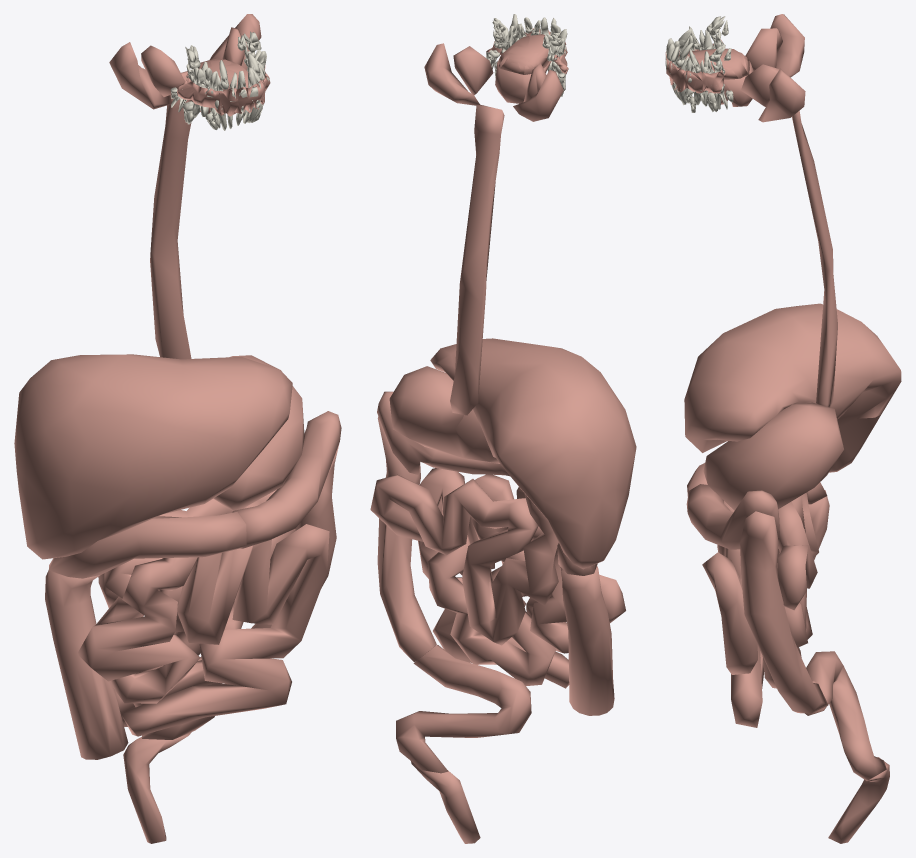
File: pediatric_child_10y_male.digestive.LOD3.glb
The picture shows the model from 3 angles, left to right: view 1: azimuth 30°, elevation 25°; view 2: azimuth 150°, elevation 25°; view 3: azimuth 270°, elevation 25°; orthographic projection. The views are drawn at different scales.
Visible parts, largest first — view 1: PEDIATRIC.CHILD_10Y.MALE.DIGESTIVE.LIVER, PEDIATRIC.CHILD_10Y.MALE.DIGESTIVE.SMALL_INTESTINE_WALL, PEDIATRIC.CHILD_10Y.MALE.DIGESTIVE.ASCENDING_COLON_WALL, PEDIATRIC.CHILD_10Y.MALE.DIGESTIVE.OESOPHAGUS_WALL, PEDIATRIC.CHILD_10Y.MALE.DIGESTIVE.TRANSVERSE_COLON_WALL.R, PEDIATRIC.CHILD_10Y.MALE.DIGESTIVE.TRANSVERSE_COLON_WALL.L, PEDIATRIC.CHILD_10Y.MALE.DIGESTIVE.STOMACH_WALL, PEDIATRIC.CHILD_10Y.MALE.DIGESTIVE.SALIVARY_GLANDS.R, PEDIATRIC.CHILD_10Y.MALE.DIGESTIVE.RECTUM_WALL, PEDIATRIC.CHILD_10Y.MALE.DIGESTIVE.PERMANENT_CEMENTUM, PEDIATRIC.CHILD_10Y.MALE.DIGESTIVE.ORAL_MUCOSA_LIP_AND_CHEEK, PEDIATRIC.CHILD_10Y.MALE.DIGESTIVE.DESCENDING_COLON_WALL (+3 smaller); view 2: PEDIATRIC.CHILD_10Y.MALE.DIGESTIVE.SMALL_INTESTINE_WALL, PEDIATRIC.CHILD_10Y.MALE.DIGESTIVE.LIVER, PEDIATRIC.CHILD_10Y.MALE.DIGESTIVE.OESOPHAGUS_WALL, PEDIATRIC.CHILD_10Y.MALE.DIGESTIVE.SIGMOID_COLON_WALL, PEDIATRIC.CHILD_10Y.MALE.DIGESTIVE.ASCENDING_COLON_WALL, PEDIATRIC.CHILD_10Y.MALE.DIGESTIVE.STOMACH_WALL, PEDIATRIC.CHILD_10Y.MALE.DIGESTIVE.DESCENDING_COLON_WALL, PEDIATRIC.CHILD_10Y.MALE.DIGESTIVE.SALIVARY_GLANDS.L, PEDIATRIC.CHILD_10Y.MALE.DIGESTIVE.TRANSVERSE_COLON_WALL.L, PEDIATRIC.CHILD_10Y.MALE.DIGESTIVE.RECTUM_WALL, PEDIATRIC.CHILD_10Y.MALE.DIGESTIVE.SALIVARY_GLANDS.R, PEDIATRIC.CHILD_10Y.MALE.DIGESTIVE.PERMANENT_CEMENTUM (+3 smaller); view 3: PEDIATRIC.CHILD_10Y.MALE.DIGESTIVE.LIVER, PEDIATRIC.CHILD_10Y.MALE.DIGESTIVE.SMALL_INTESTINE_WALL, PEDIATRIC.CHILD_10Y.MALE.DIGESTIVE.STOMACH_WALL, PEDIATRIC.CHILD_10Y.MALE.DIGESTIVE.DESCENDING_COLON_WALL, PEDIATRIC.CHILD_10Y.MALE.DIGESTIVE.OESOPHAGUS_WALL, PEDIATRIC.CHILD_10Y.MALE.DIGESTIVE.SIGMOID_COLON_WALL, PEDIATRIC.CHILD_10Y.MALE.DIGESTIVE.TRANSVERSE_COLON_WALL.L, PEDIATRIC.CHILD_10Y.MALE.DIGESTIVE.SALIVARY_GLANDS.L, PEDIATRIC.CHILD_10Y.MALE.DIGESTIVE.SALIVARY_GLANDS.R, PEDIATRIC.CHILD_10Y.MALE.DIGESTIVE.RECTUM_WALL, PEDIATRIC.CHILD_10Y.MALE.DIGESTIVE.PERMANENT_CEMENTUM, PEDIATRIC.CHILD_10Y.MALE.DIGESTIVE.ORAL_MUCOSA_LIP_AND_CHEEK (+7 smaller).
Part boxes in pixels (x1,y1,x2,y2): PEDIATRIC.CHILD_10Y.MALE.DIGESTIVE.LIVER: [14, 354, 292, 559]; PEDIATRIC.CHILD_10Y.MALE.DIGESTIVE.SMALL_INTESTINE_WALL: [77, 489, 329, 736]; PEDIATRIC.CHILD_10Y.MALE.DIGESTIVE.ASCENDING_COLON_WALL: [45, 570, 128, 759]; PEDIATRIC.CHILD_10Y.MALE.DIGESTIVE.OESOPHAGUS_WALL: [150, 71, 191, 359]; PEDIATRIC.CHILD_10Y.MALE.DIGESTIVE.TRANSVERSE_COLON_WALL.R: [49, 512, 246, 578]; PEDIATRIC.CHILD_10Y.MALE.DIGESTIVE.TRANSVERSE_COLON_WALL.L: [232, 411, 341, 548]; PEDIATRIC.CHILD_10Y.MALE.DIGESTIVE.STOMACH_WALL: [213, 355, 304, 510]; PEDIATRIC.CHILD_10Y.MALE.DIGESTIVE.SALIVARY_GLANDS.R: [109, 42, 225, 113]; PEDIATRIC.CHILD_10Y.MALE.DIGESTIVE.RECTUM_WALL: [123, 732, 191, 843]; PEDIATRIC.CHILD_10Y.MALE.DIGESTIVE.PERMANENT_CEMENTUM: [171, 31, 266, 130]; PEDIATRIC.CHILD_10Y.MALE.DIGESTIVE.ORAL_MUCOSA_LIP_AND_CHEEK: [177, 65, 270, 116]; PEDIATRIC.CHILD_10Y.MALE.DIGESTIVE.DESCENDING_COLON_WALL: [251, 444, 339, 628]; PEDIATRIC.CHILD_10Y.MALE.DIGESTIVE.SMALL_INTESTINE_WALL: [370, 468, 625, 688]; PEDIATRIC.CHILD_10Y.MALE.DIGESTIVE.LIVER: [430, 338, 636, 569]; PEDIATRIC.CHILD_10Y.MALE.DIGESTIVE.OESOPHAGUS_WALL: [450, 104, 504, 415]; PEDIATRIC.CHILD_10Y.MALE.DIGESTIVE.SIGMOID_COLON_WALL: [396, 645, 531, 773]; PEDIATRIC.CHILD_10Y.MALE.DIGESTIVE.ASCENDING_COLON_WALL: [560, 566, 614, 715]; PEDIATRIC.CHILD_10Y.MALE.DIGESTIVE.STOMACH_WALL: [389, 366, 499, 463]; PEDIATRIC.CHILD_10Y.MALE.DIGESTIVE.DESCENDING_COLON_WALL: [377, 416, 436, 662]; PEDIATRIC.CHILD_10Y.MALE.DIGESTIVE.SALIVARY_GLANDS.L: [424, 43, 493, 105]; PEDIATRIC.CHILD_10Y.MALE.DIGESTIVE.TRANSVERSE_COLON_WALL.L: [377, 391, 509, 476]; PEDIATRIC.CHILD_10Y.MALE.DIGESTIVE.RECTUM_WALL: [411, 761, 480, 843]; PEDIATRIC.CHILD_10Y.MALE.DIGESTIVE.SALIVARY_GLANDS.R: [513, 63, 563, 121]; PEDIATRIC.CHILD_10Y.MALE.DIGESTIVE.PERMANENT_CEMENTUM: [492, 14, 567, 96]; PEDIATRIC.CHILD_10Y.MALE.DIGESTIVE.LIVER: [684, 303, 901, 472]; PEDIATRIC.CHILD_10Y.MALE.DIGESTIVE.SMALL_INTESTINE_WALL: [702, 492, 818, 727]; PEDIATRIC.CHILD_10Y.MALE.DIGESTIVE.STOMACH_WALL: [703, 402, 843, 510]; PEDIATRIC.CHILD_10Y.MALE.DIGESTIVE.DESCENDING_COLON_WALL: [740, 511, 828, 713]; PEDIATRIC.CHILD_10Y.MALE.DIGESTIVE.OESOPHAGUS_WALL: [792, 111, 837, 407]; PEDIATRIC.CHILD_10Y.MALE.DIGESTIVE.SIGMOID_COLON_WALL: [805, 651, 886, 780]; PEDIATRIC.CHILD_10Y.MALE.DIGESTIVE.TRANSVERSE_COLON_WALL.L: [686, 484, 779, 549]; PEDIATRIC.CHILD_10Y.MALE.DIGESTIVE.SALIVARY_GLANDS.L: [708, 64, 805, 122]; PEDIATRIC.CHILD_10Y.MALE.DIGESTIVE.SALIVARY_GLANDS.R: [745, 14, 804, 77]; PEDIATRIC.CHILD_10Y.MALE.DIGESTIVE.RECTUM_WALL: [828, 757, 889, 843]; PEDIATRIC.CHILD_10Y.MALE.DIGESTIVE.PERMANENT_CEMENTUM: [666, 16, 733, 112]; PEDIATRIC.CHILD_10Y.MALE.DIGESTIVE.ORAL_MUCOSA_LIP_AND_CHEEK: [665, 39, 723, 93].
Bounding box in the file's own units: 0.2203 × 0.6191 × 0.1632.
